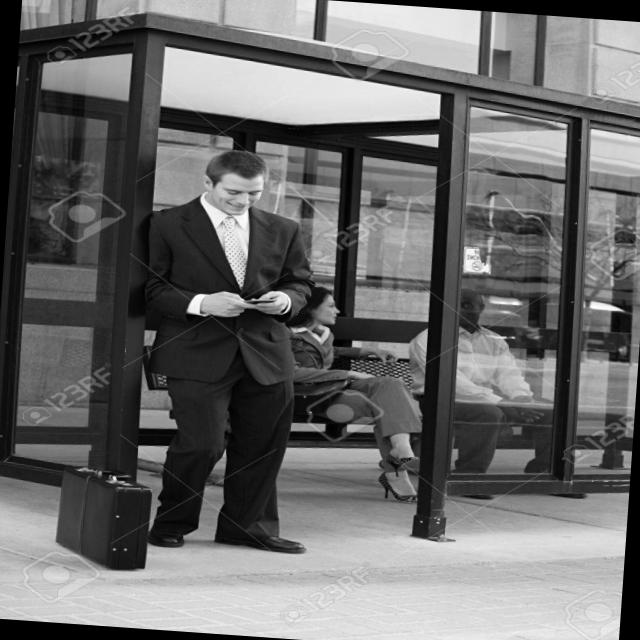person: (121, 122, 362, 560), (261, 264, 450, 512), (419, 272, 552, 510)
